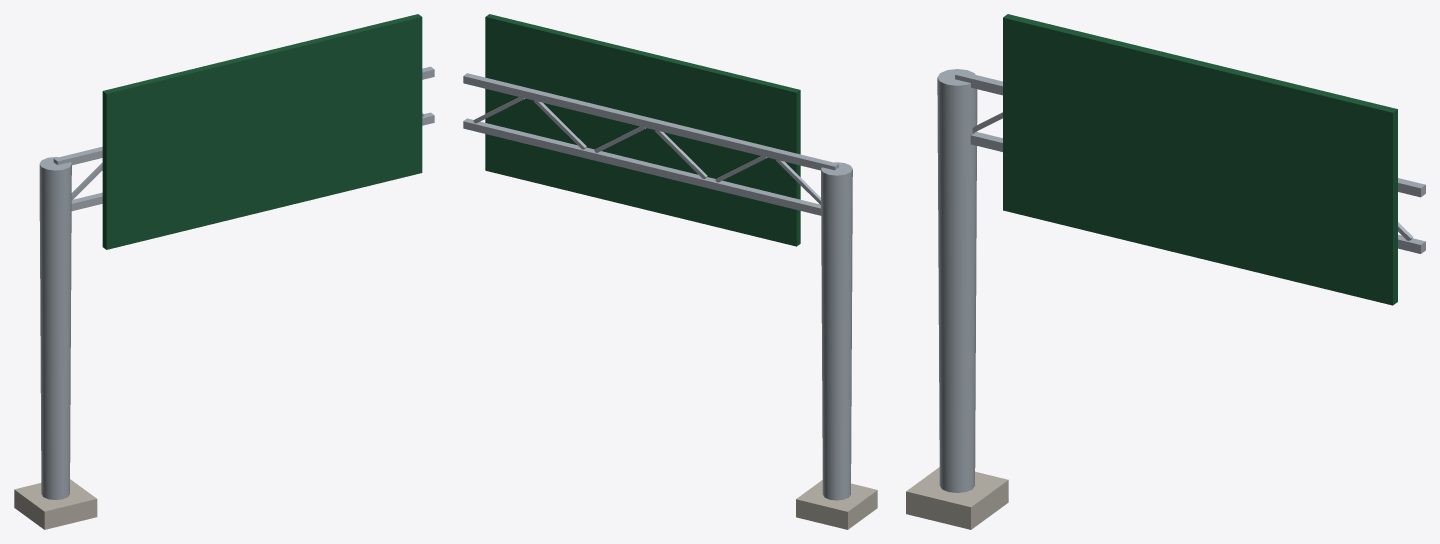
The model's file is town_gantry.glb.
3 views of the same model, side by side, from view 1: azimuth 30°, elevation 25°; view 2: azimuth 150°, elevation 25°; view 3: azimuth 330°, elevation 25° (orthographic). The views are drawn at different scales.
Parts seen in each view (by area): view 1: TownGantry_body; view 2: TownGantry_body; view 3: TownGantry_body.
Boxes of the visible parts, x1,y1,x2,y2 form: TownGantry_body: (14, 14, 434, 529); TownGantry_body: (463, 14, 877, 529); TownGantry_body: (906, 14, 1425, 529).
Bounding box in the file's own units: 9.2 × 9 × 1.2.
